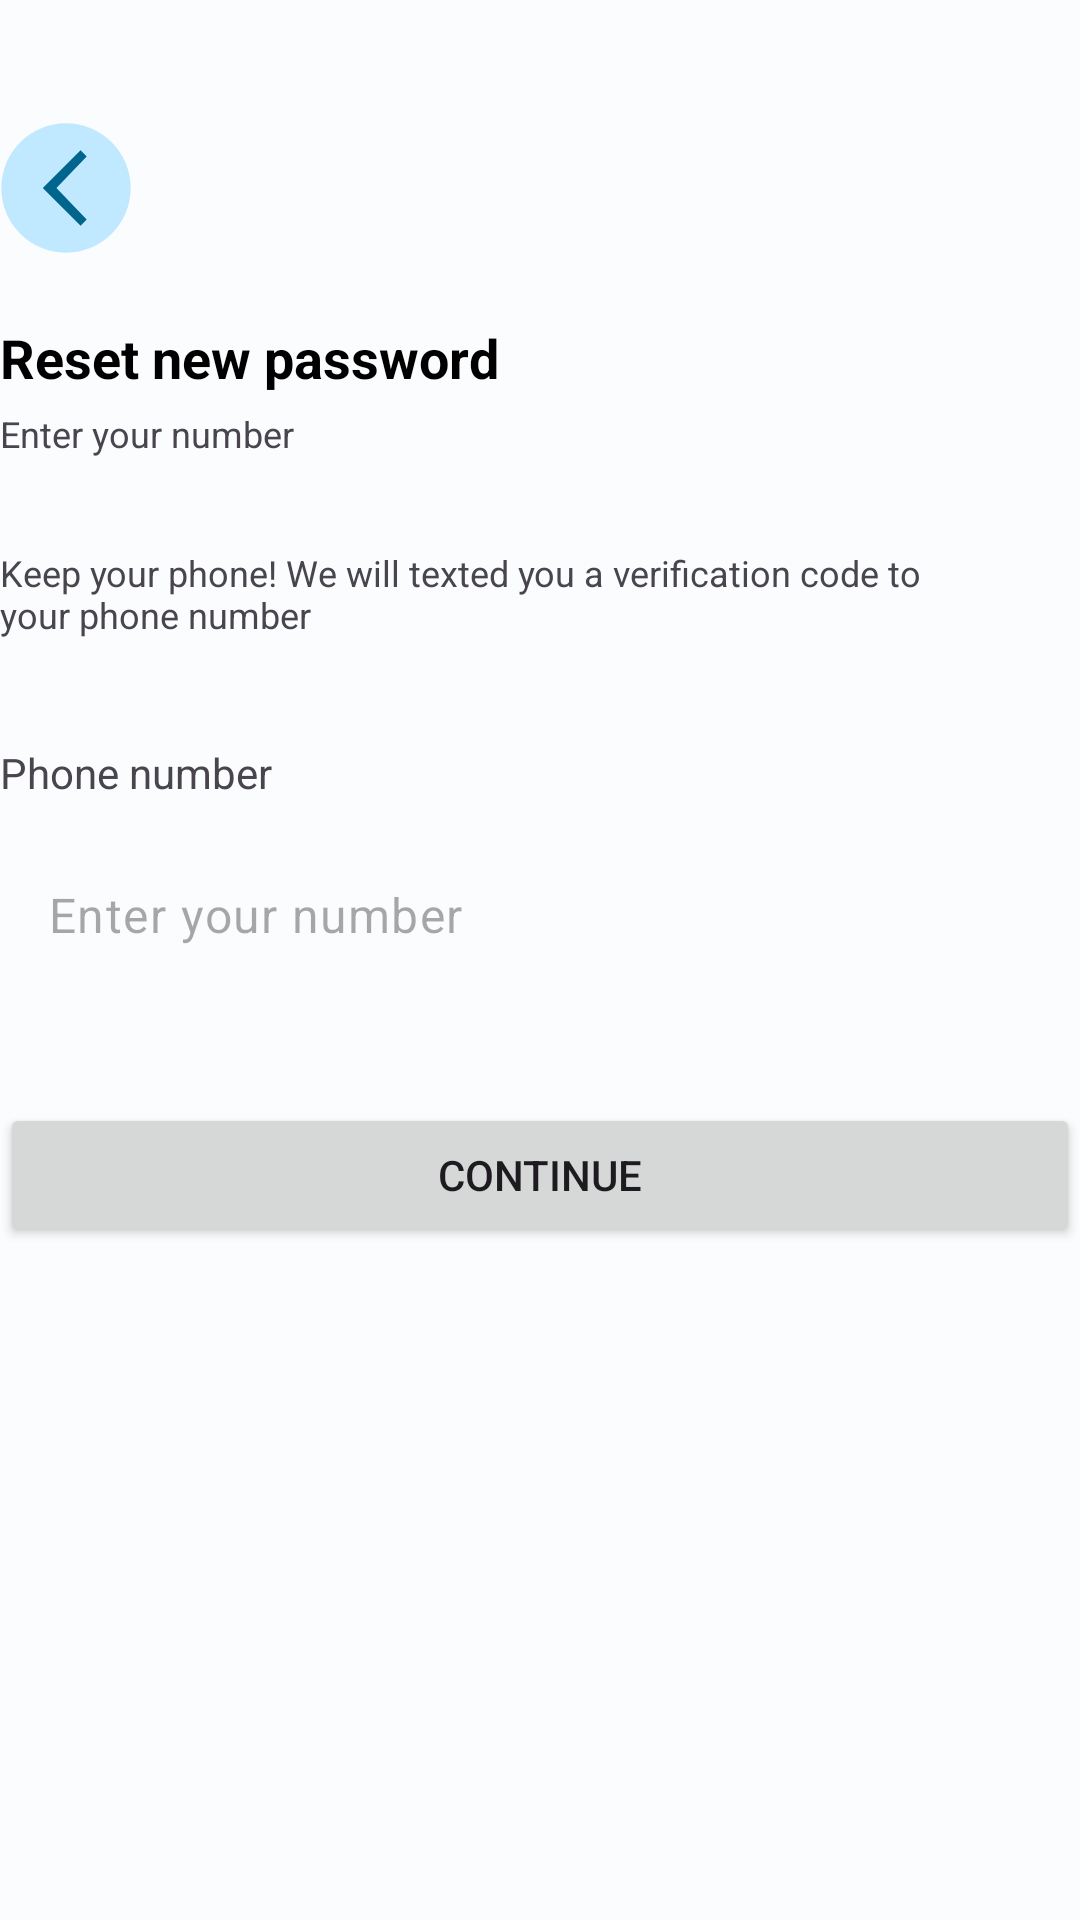

Where to tap for icons on this 1080x1920 app screen, as [x,y]:
Back: [66,188]
